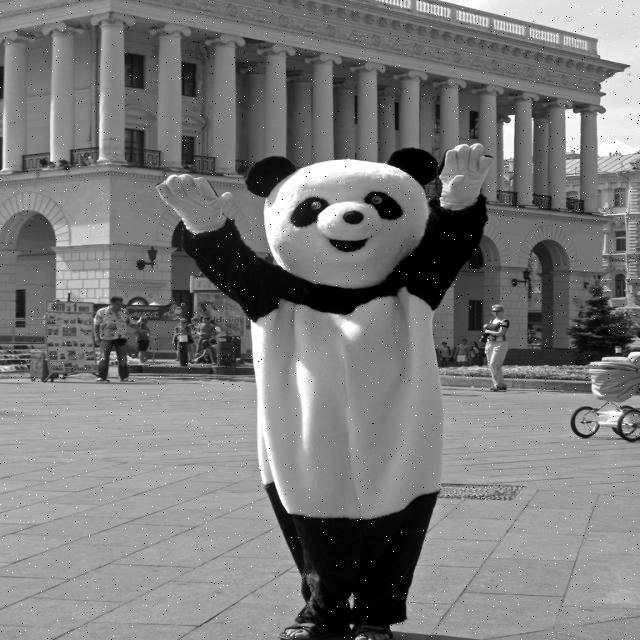panda: (146, 133, 493, 639)
